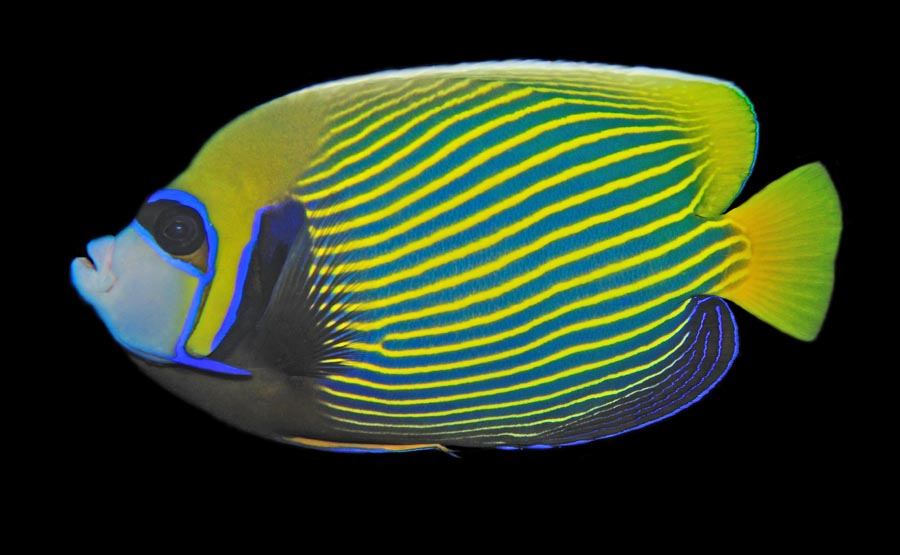Pomacanthus_imperator: (47, 31, 855, 463)
